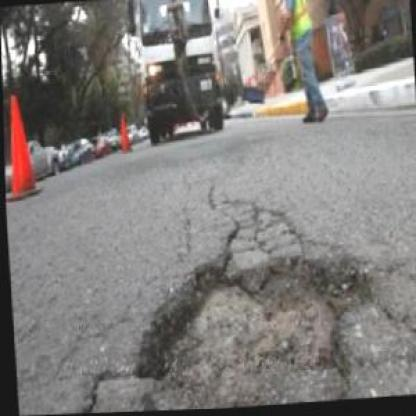pothole: (121, 243, 382, 412)
